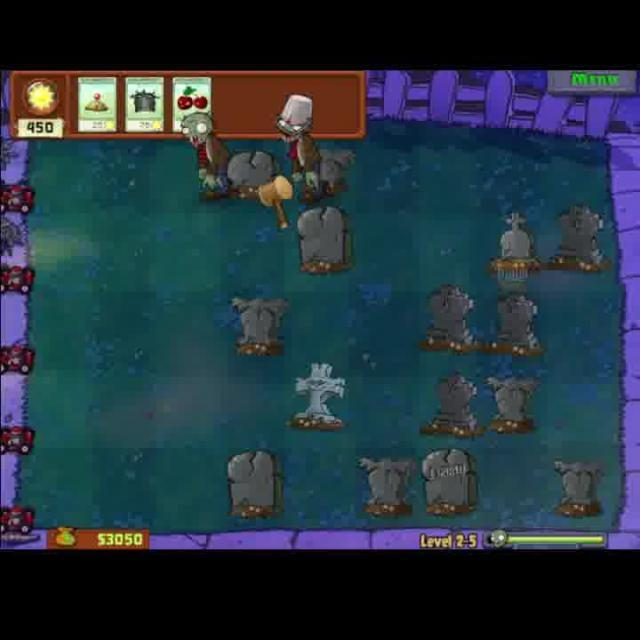zombies: (272, 92, 328, 210), (178, 108, 234, 205)
